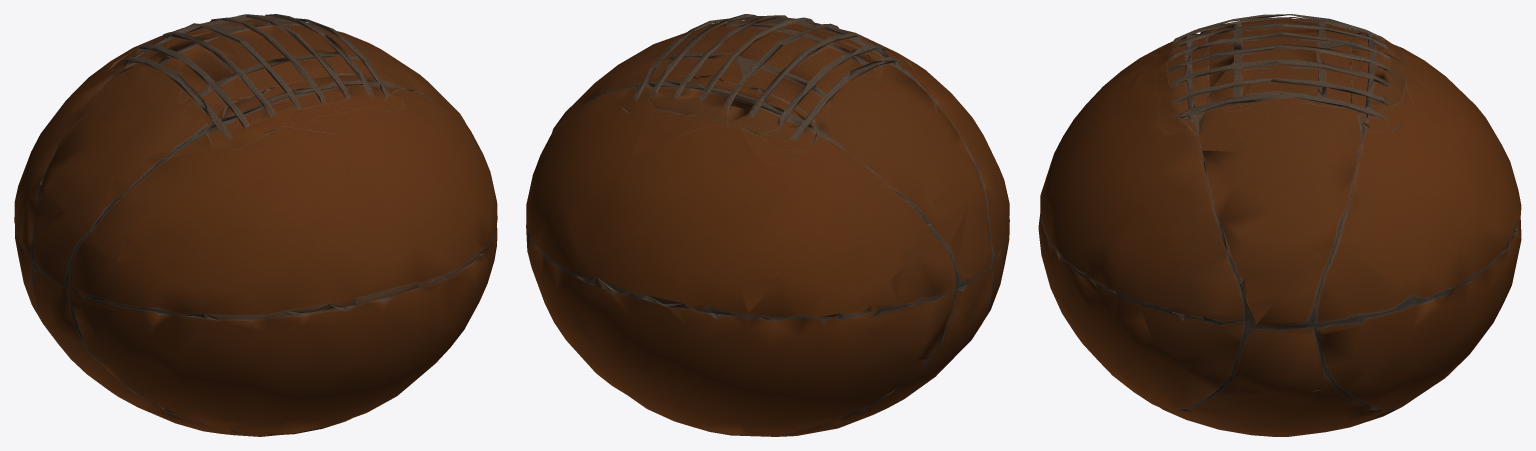
Rendered from SuperBalle.fbx.
The picture shows the model from 3 angles, left to right: view 1: azimuth 30°, elevation 25°; view 2: azimuth 150°, elevation 25°; view 3: azimuth 270°, elevation 25°; orthographic projection.
Visible parts, largest first — view 1: Mesh_0; view 2: Mesh_0; view 3: Mesh_0.
Part boxes in pixels (x1,y1,x2,y2): Mesh_0: (14, 14, 497, 436); Mesh_0: (526, 14, 1009, 436); Mesh_0: (1038, 14, 1521, 436).
Size of the model in its own units: 190 by 162 by 190.
Materials: 1 (1 with a texture image).
